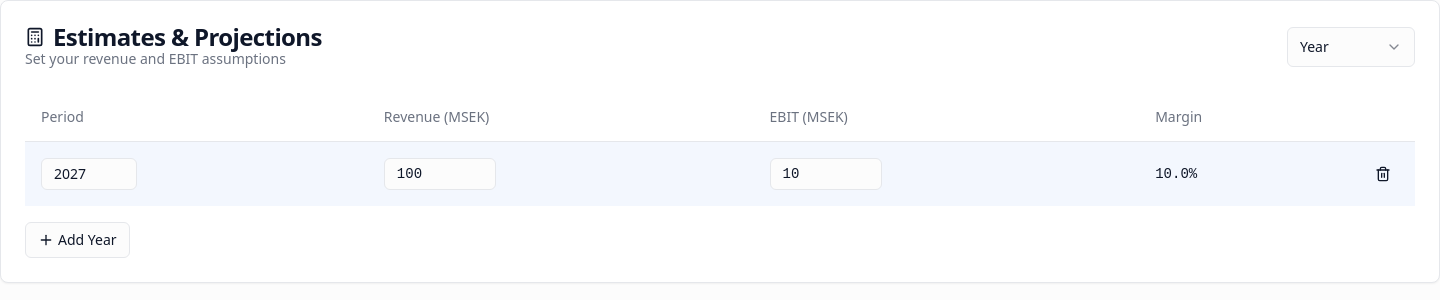
it: EstimatesEditor workflows › parses comma decimals and recomputes the estimate margin
Replace the text in the 2nd field with placeholder "EBIT" with "12,5". click: (826, 174)
box: x1=770 y1=158 x2=882 y2=190
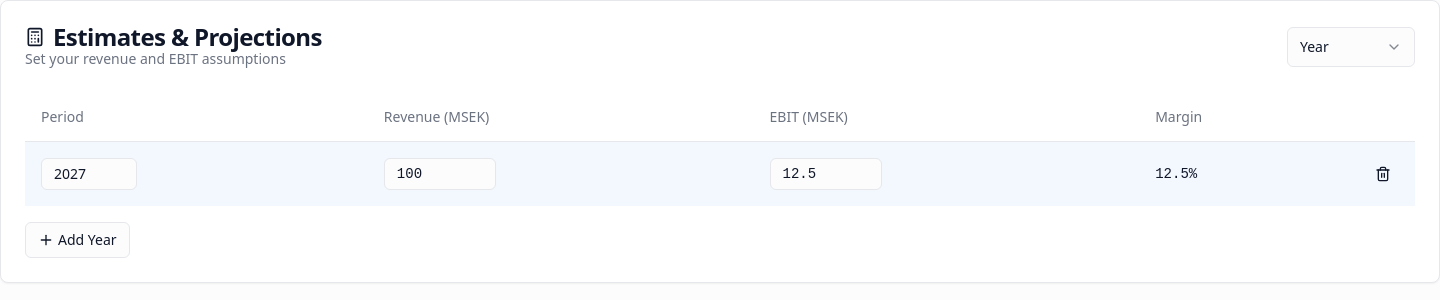
Now the text "12.5%" is shown, box x1=1139 y1=141 x2=1351 y2=206
